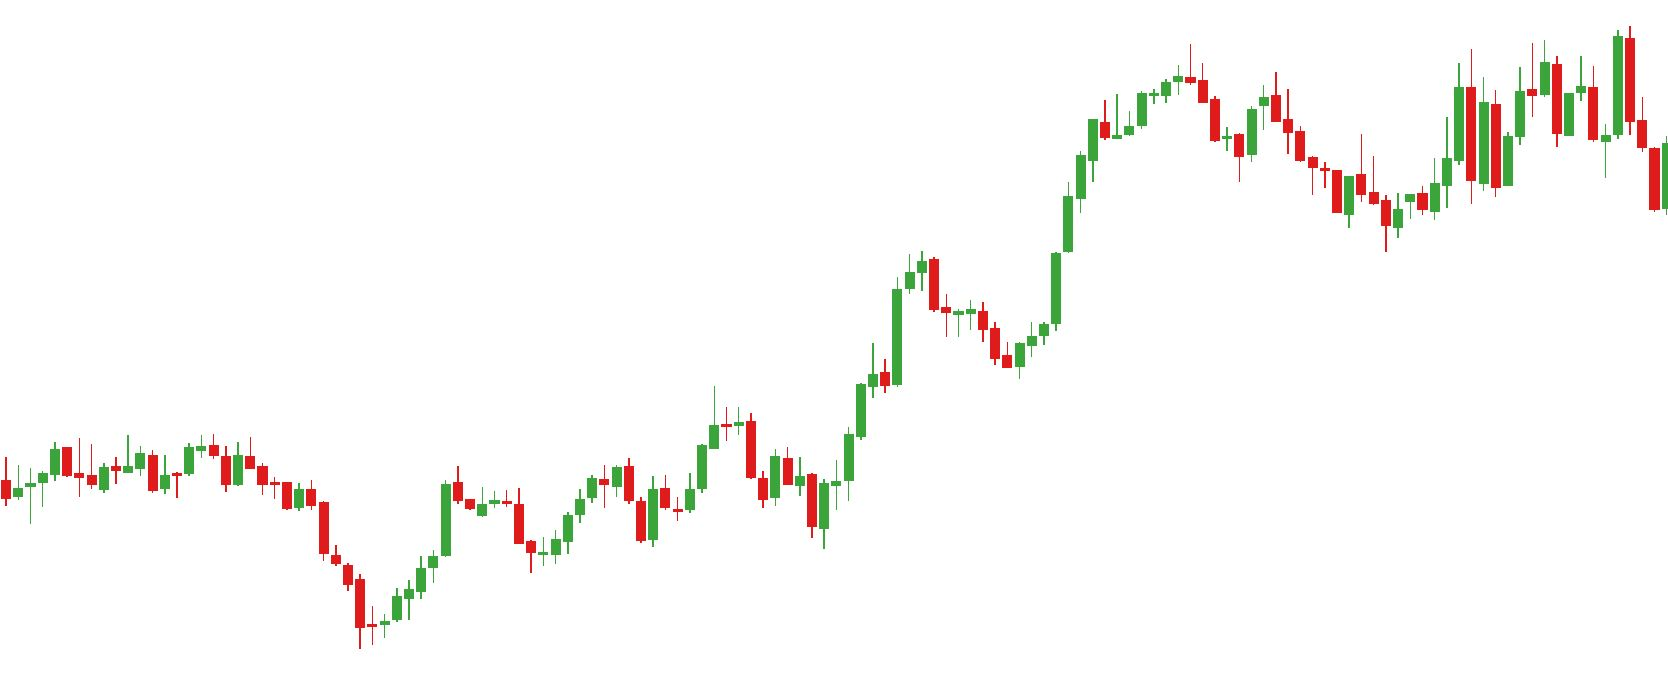sell: (1524, 27, 1634, 116)
